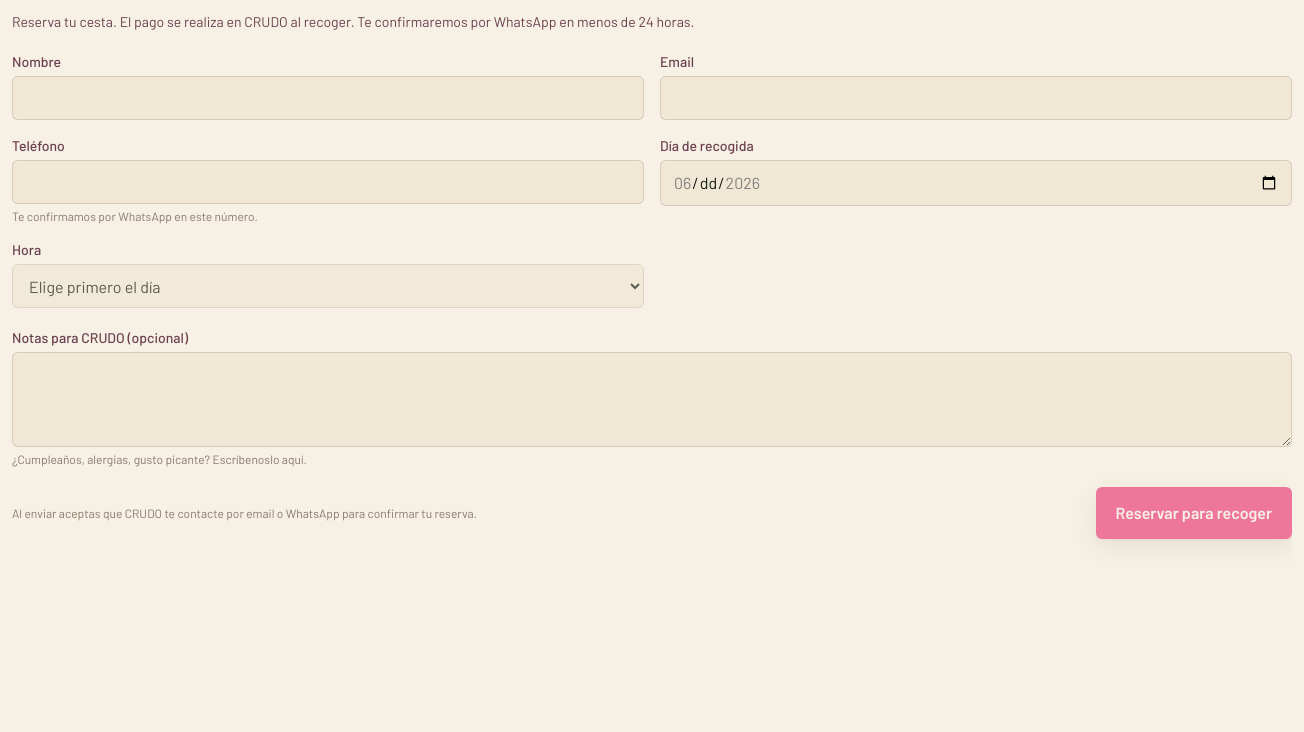
Test: PickupForm › shows field errors when submitting empty form
Step 1. Click the button "Reservar para recoger" → (1194, 513), box [1096, 487, 1292, 539]
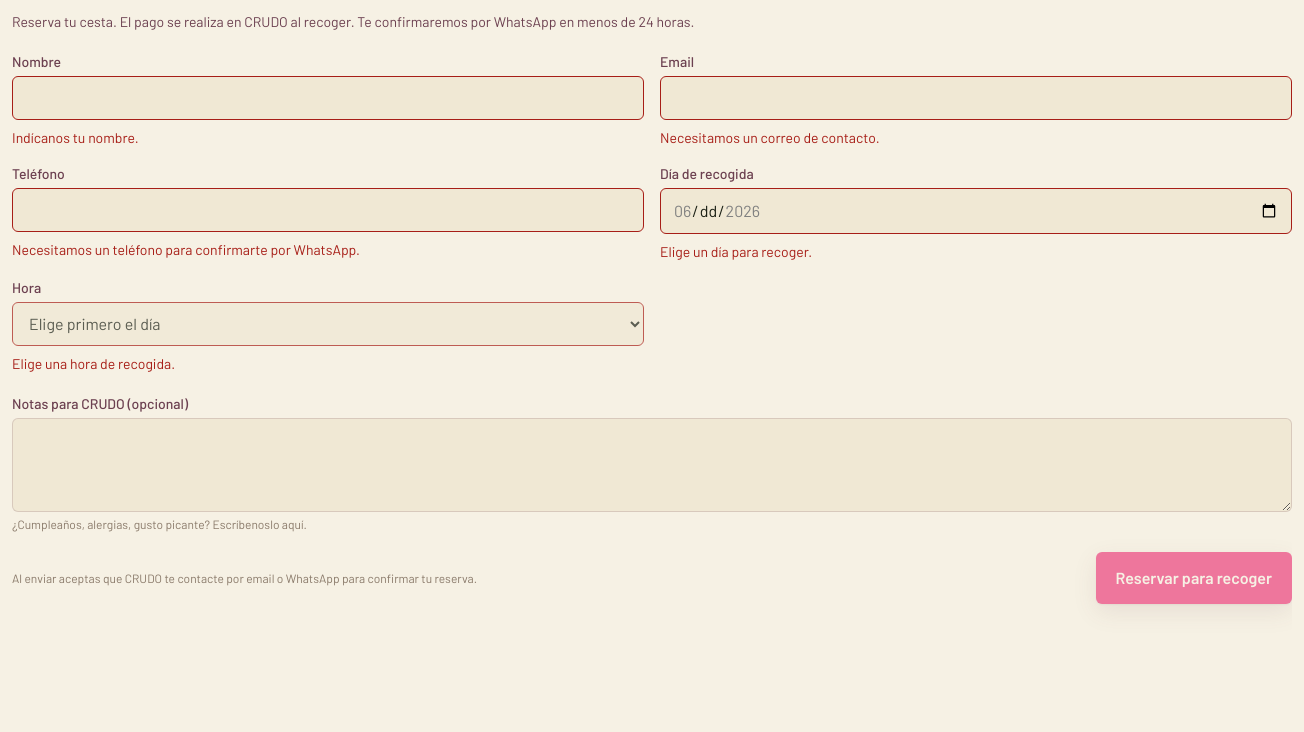
Result: the text "Indícanos tu nombre." is shown at [12, 129, 138, 146]
Result: the text "Necesitamos un correo de contacto." is shown at [660, 129, 880, 146]
